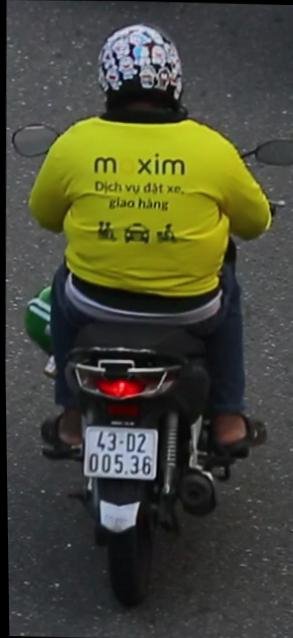LP: (76, 419, 160, 486)
helmet: (91, 15, 199, 133)
